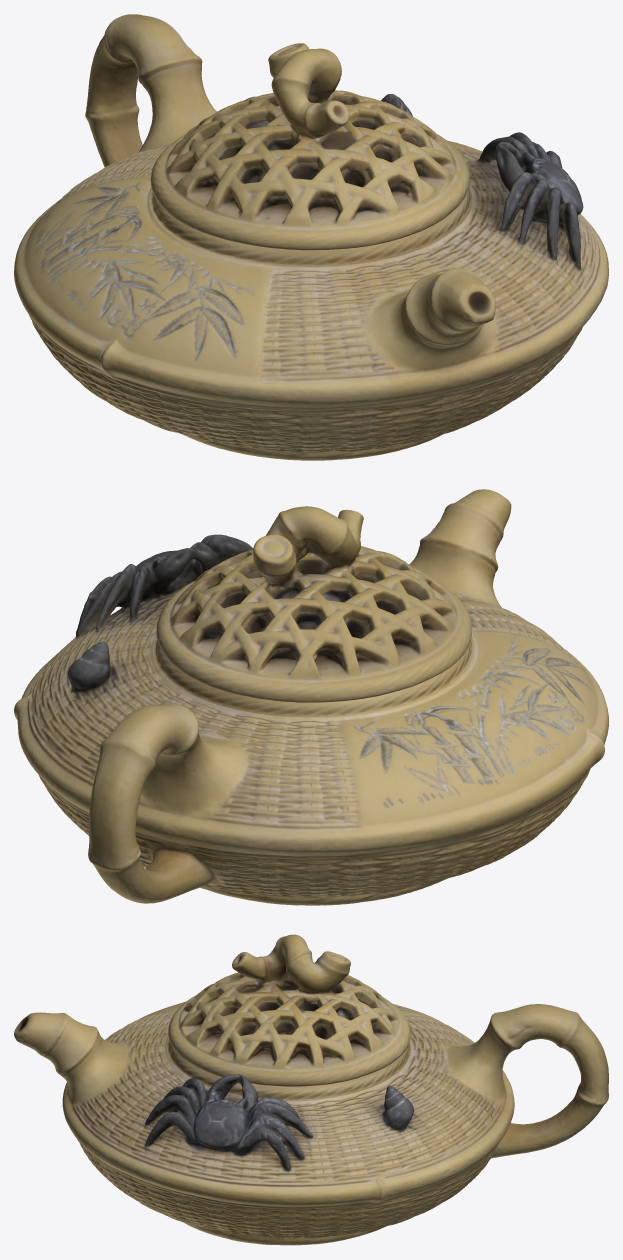
The model's file is yixing_zisha_clay_crab_teapot.glb.
The picture shows the model from 3 angles, top to bottom: view 1: azimuth 30°, elevation 25°; view 2: azimuth 150°, elevation 25°; view 3: azimuth 270°, elevation 25°; orthographic projection. The views are drawn at different scales.
Parts seen in each view (by area): view 1: Object_4, Object_3, Object_5, Object_6, Object_2; view 2: Object_4, Object_3, Object_5, Object_2, Object_6; view 3: Object_4, Object_2, Object_5, Object_6, Object_3.
Boxes of the visible parts, x1,y1,x2,y2 form: Object_4: [14, 14, 608, 457]; Object_3: [14, 135, 555, 460]; Object_5: [132, 73, 608, 364]; Object_6: [150, 43, 470, 250]; Object_2: [171, 94, 587, 460]; Object_4: [25, 489, 575, 903]; Object_3: [14, 544, 608, 905]; Object_5: [52, 509, 479, 801]; Object_2: [14, 555, 494, 905]; Object_6: [160, 506, 468, 702]; Object_4: [14, 1004, 608, 1238]; Object_2: [81, 1002, 510, 1235]; Object_5: [120, 946, 447, 1245]; Object_6: [168, 934, 410, 1086]; Object_3: [101, 1001, 459, 1245].
Size of the model in its own units: 2.52 by 1.57 by 3.3.
Materials: 1 (1 with a texture image).
